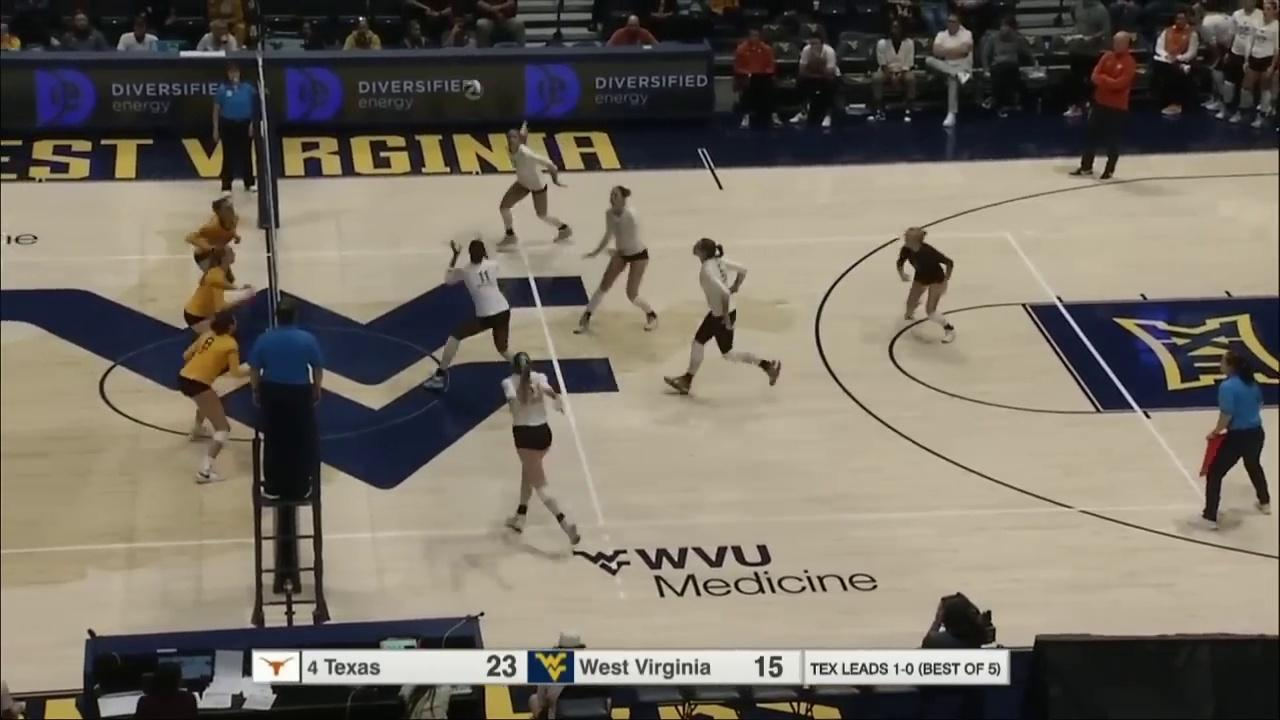player: (670, 239, 780, 400), (428, 235, 541, 389), (501, 353, 581, 545), (576, 185, 658, 335), (179, 311, 250, 483), (499, 119, 576, 246), (184, 243, 245, 391), (899, 228, 959, 345), (189, 199, 241, 317)
refree: (1187, 350, 1272, 529), (249, 299, 323, 495), (211, 65, 261, 195)
